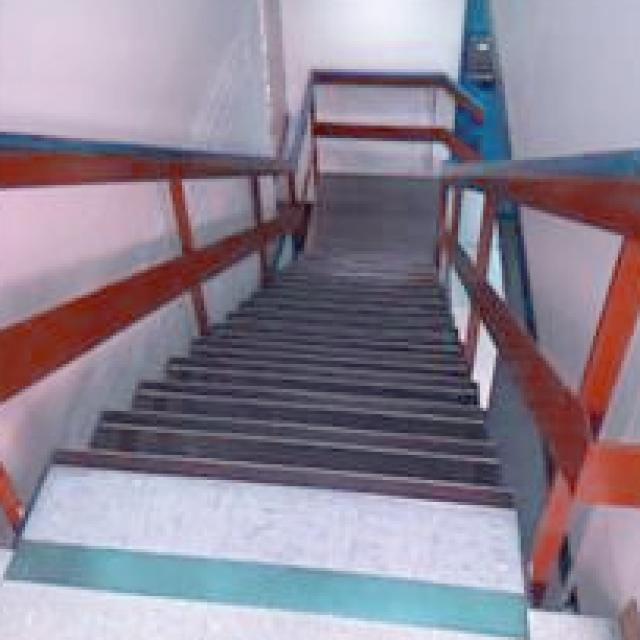downstair: (42, 324, 506, 572)
